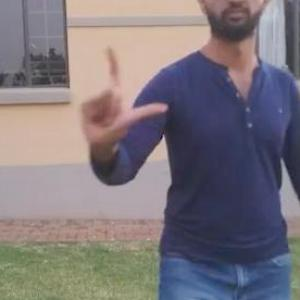land_hand: (75, 37, 171, 153)
